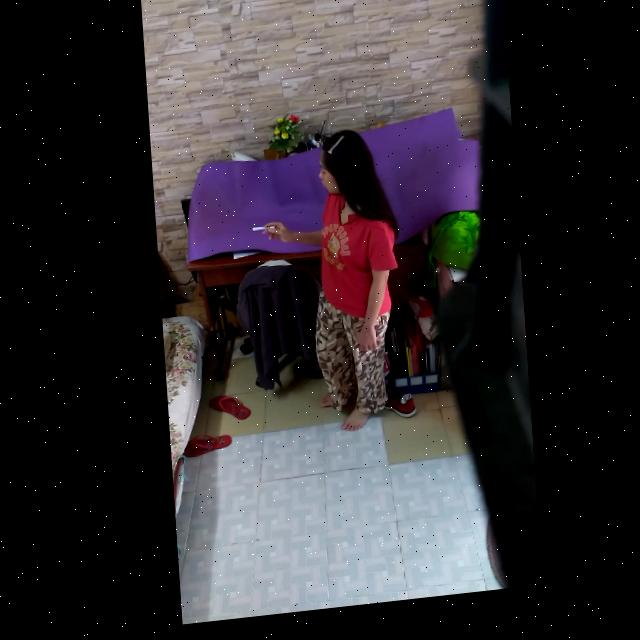cigarette: (249, 232, 271, 237)
